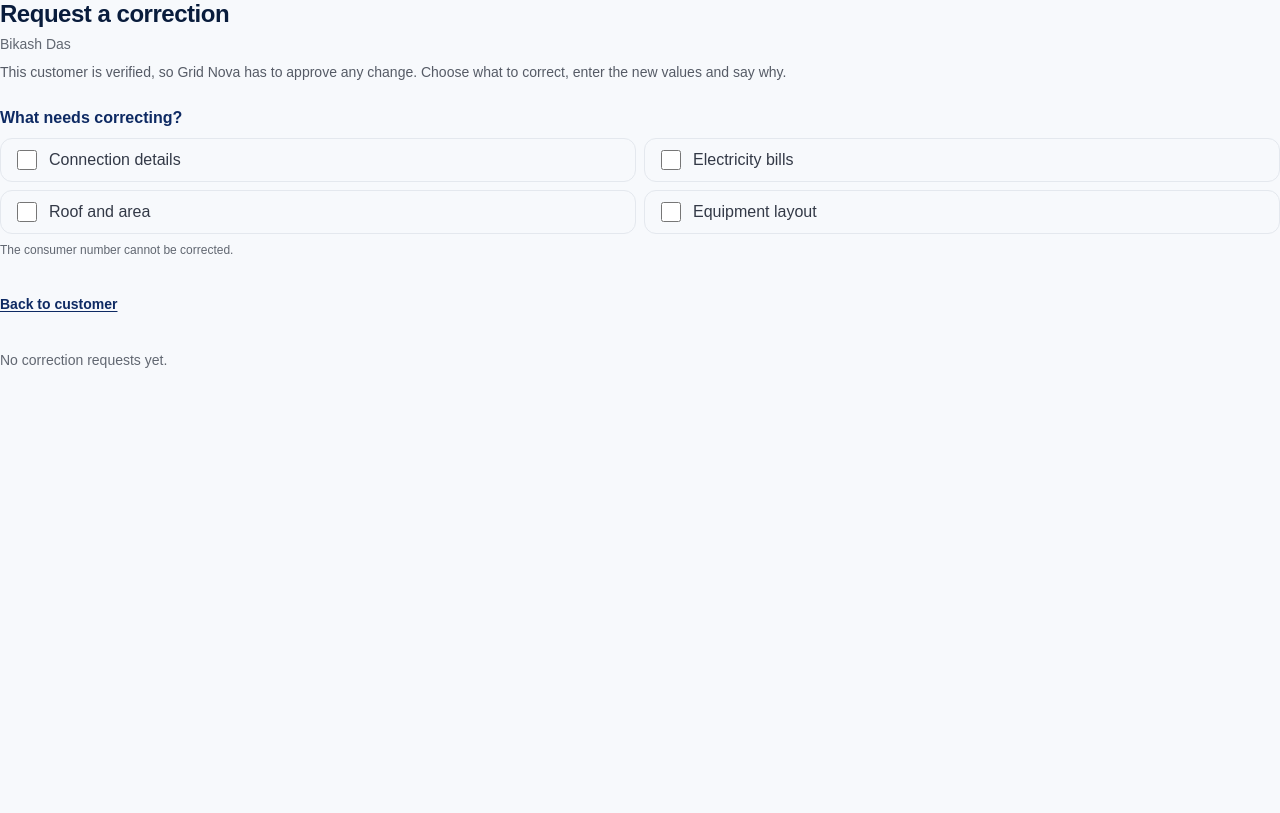
Correction request page › sends only the changed fields and the reason, then confirms
Click the checkbox labelled "Connection details". click: (27, 160)
box: [17, 150, 37, 170]
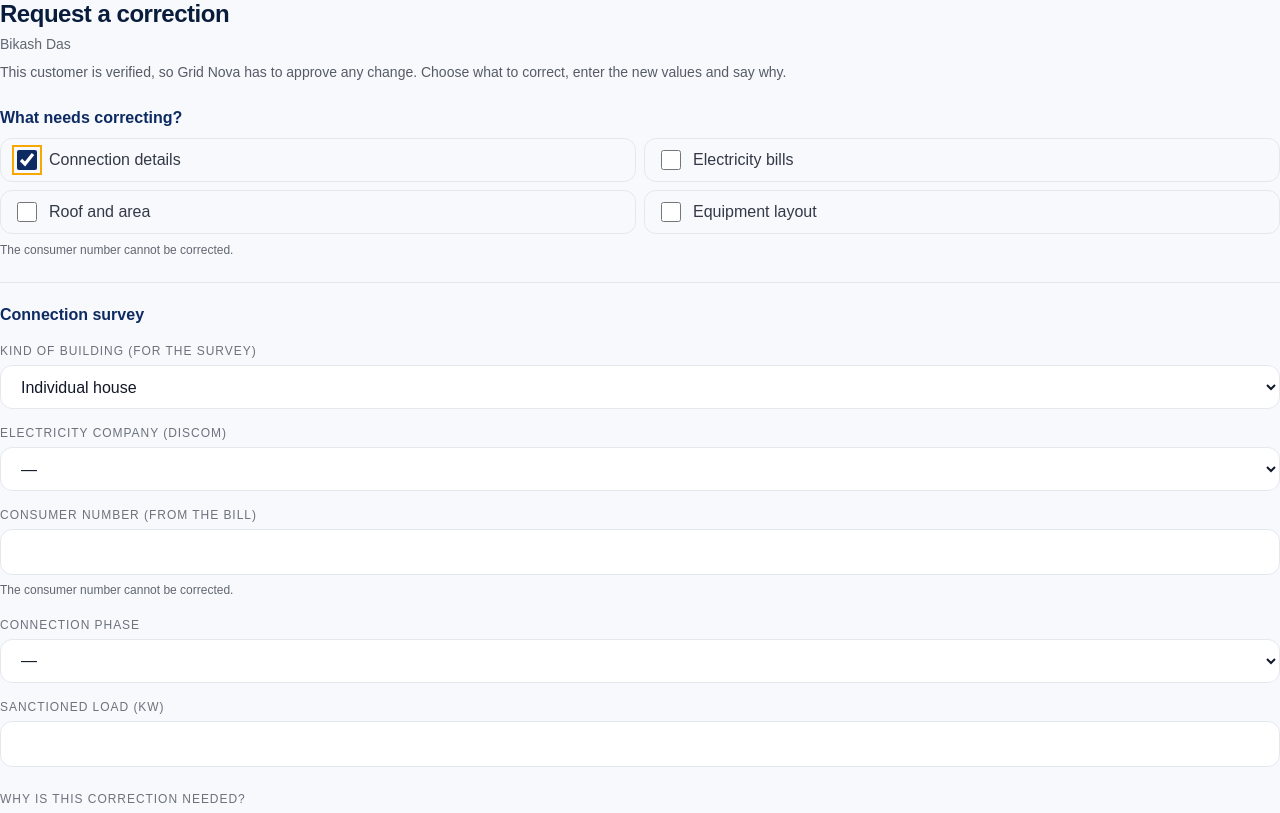
Type "7.5" into the field labelled "Sanctioned load (kW)". click: (640, 744)
box: [0, 720, 1279, 766]
(page scrolled)
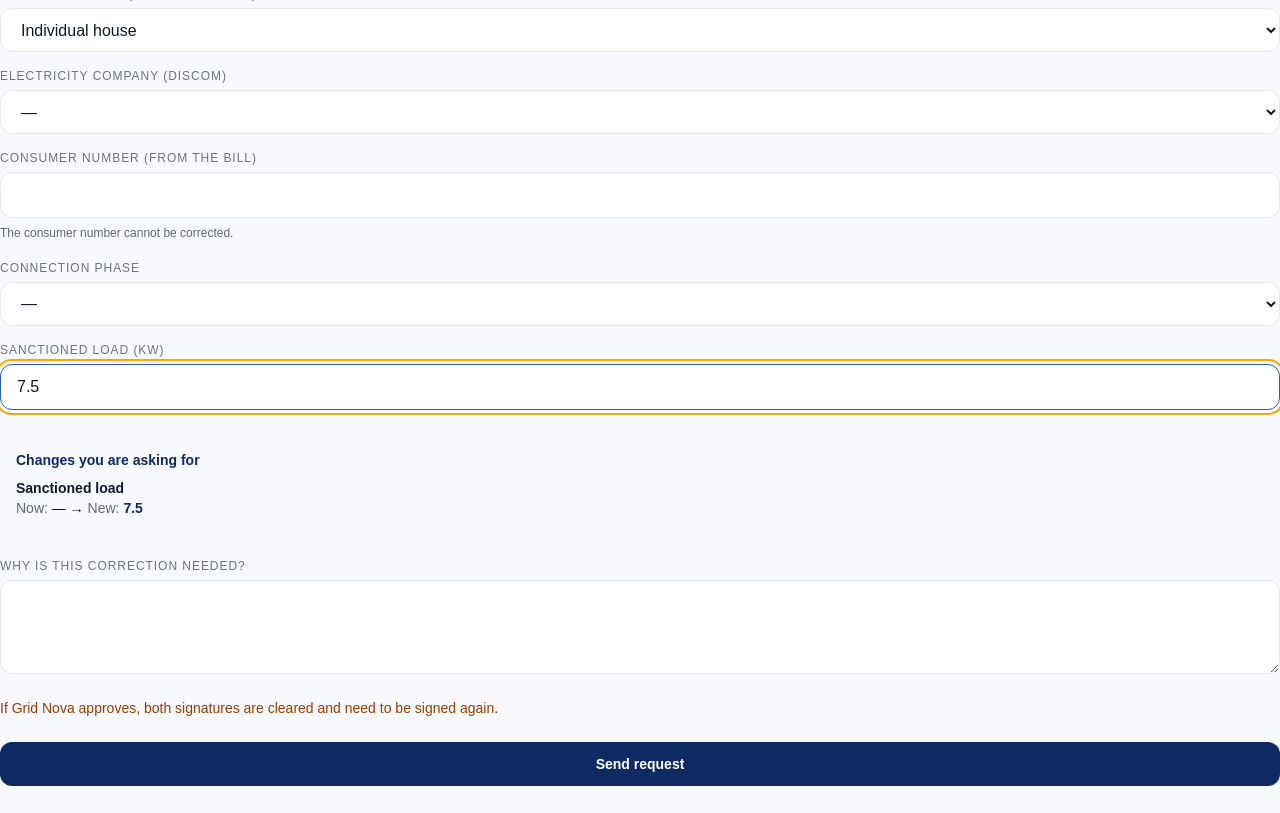
Check: the element with test id "correction-preview" shows "7.5", box [123, 500, 143, 516]
Type "Meter plate says 7.5" into the text box labelled "Why is this correction needed?". click: (640, 626)
box: [0, 580, 1279, 674]
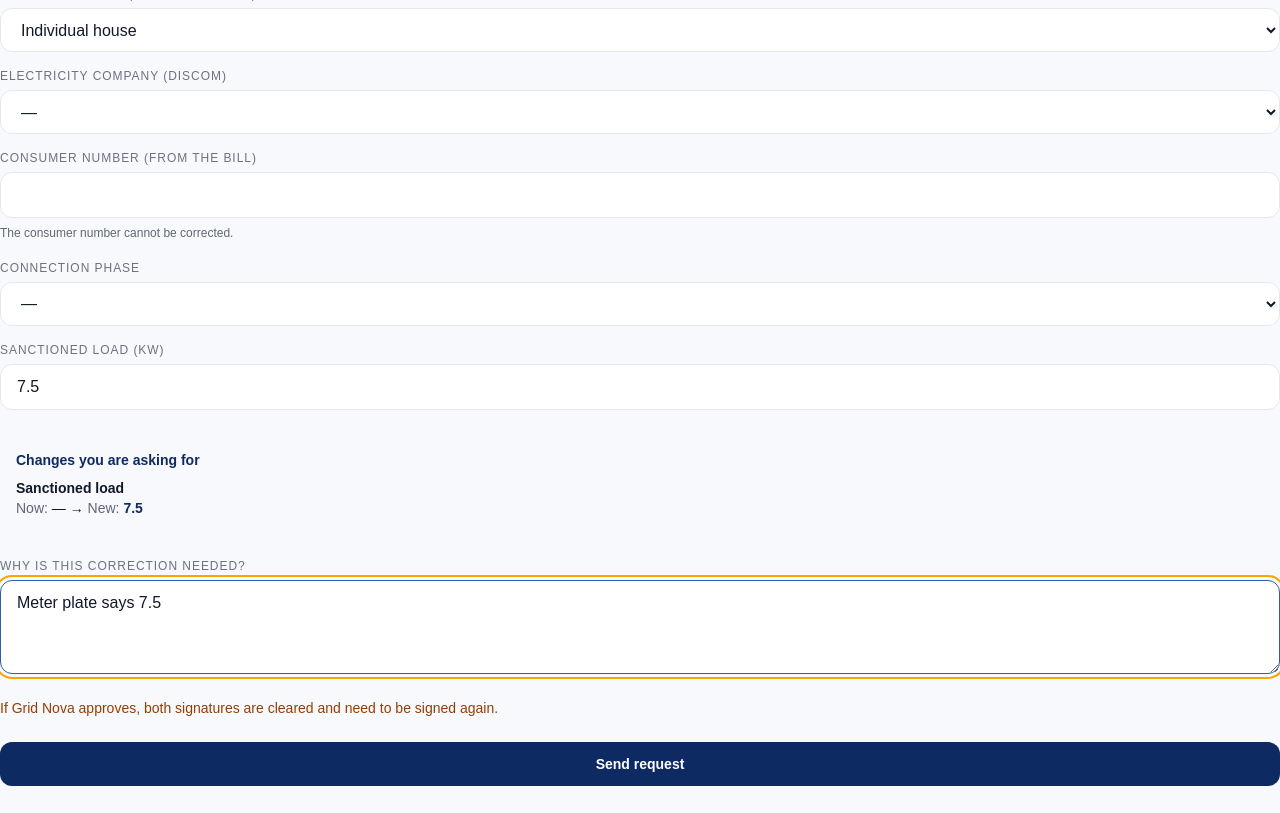
Click the button "Send request". click: (640, 764)
box: [0, 742, 1279, 786]
(page scrolled)
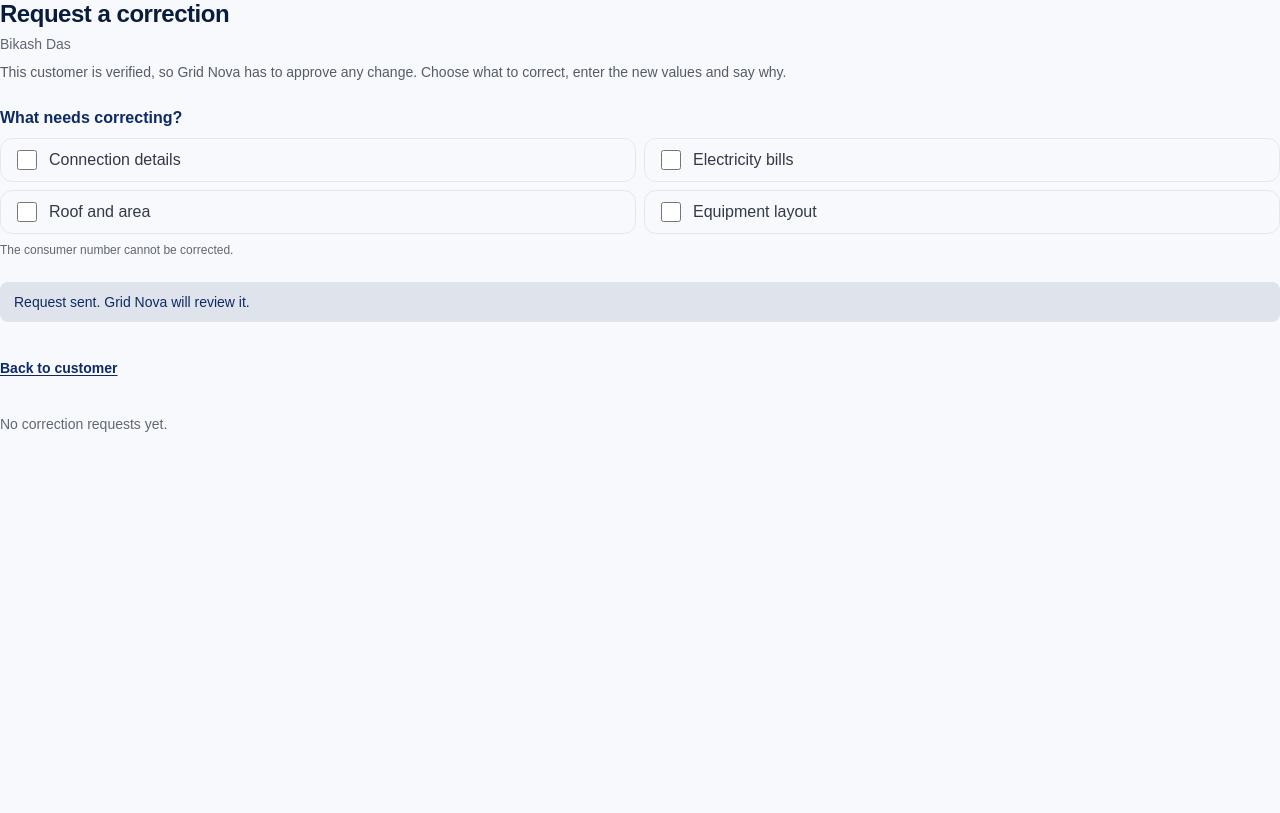
Check: the text with test id "correction-sent" reads "Request sent. Grid Nova will review it.", box [14, 294, 250, 310]
